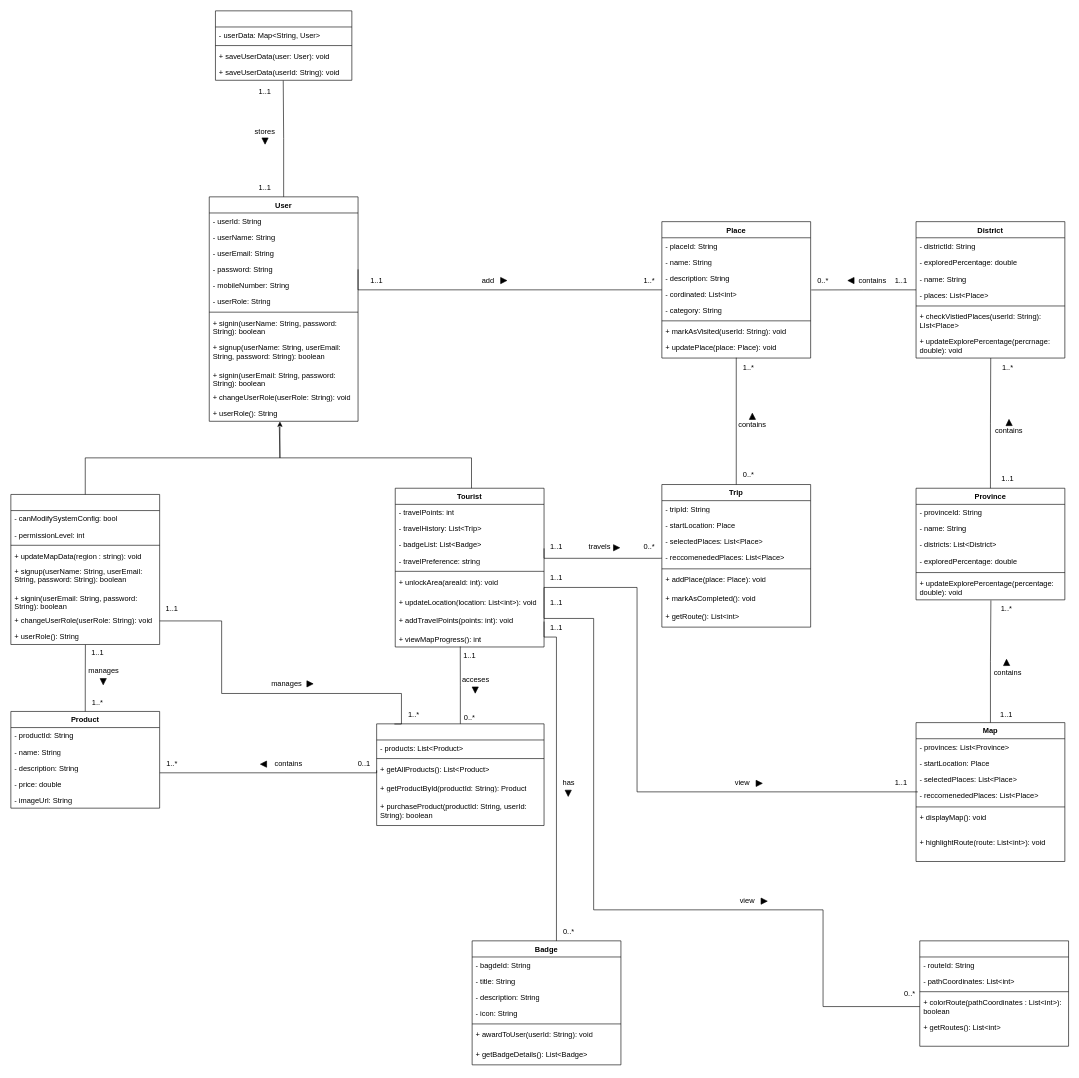
Image size: 1079x1078. Some labels were removed from this diagram. The shapes that lost their labels are listed below. From the top down, each one's box as (x1, y1, x2, y2) in pixels, then its label:
(215, 10, 352, 80): LocalStorage
(10, 494, 160, 644): Admin
(376, 723, 544, 826): Shop
(919, 940, 1069, 1046): ExplpredRoutes
